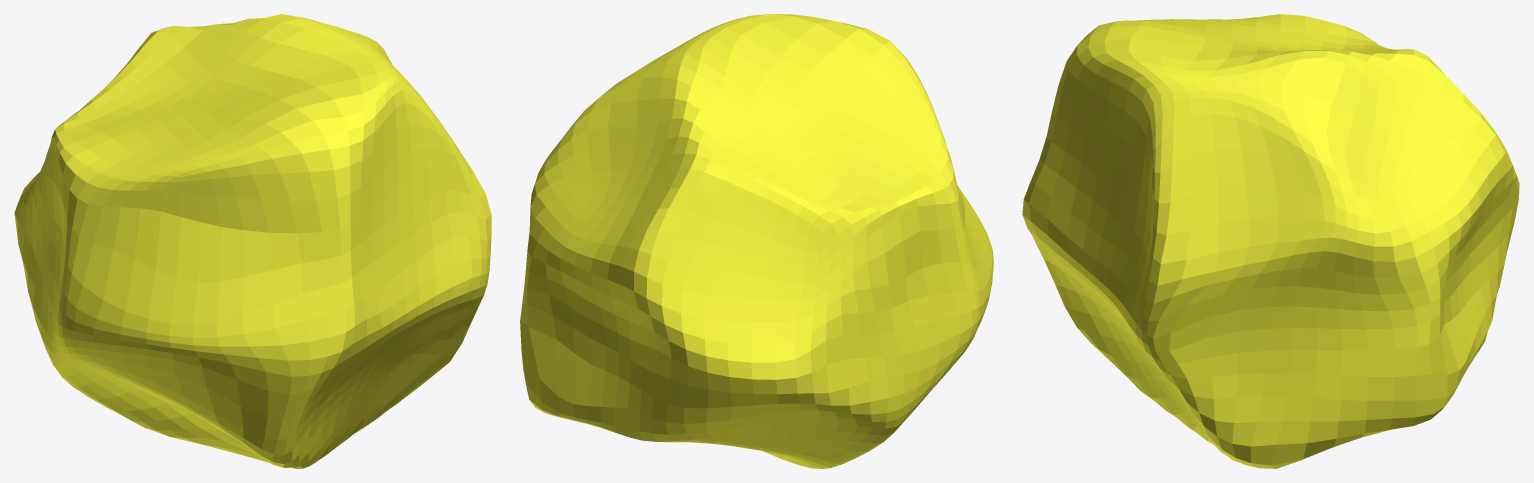
Rendered from MeteorFire.fbx.
3 renders of one model, left to right at view 1: azimuth 30°, elevation 25°; view 2: azimuth 150°, elevation 25°; view 3: azimuth 270°, elevation 25°, orthographic. The views are drawn at different scales.
Parts seen in each view (by area): view 1: Cube.f; view 2: Cube.f; view 3: Cube.f.
Part boxes in pixels (x1,y1,x2,y2): Cube.f: [14, 14, 491, 468]; Cube.f: [520, 14, 993, 468]; Cube.f: [1022, 14, 1519, 468].
Size of the model in its own units: 1.49 by 1.46 by 1.64.
